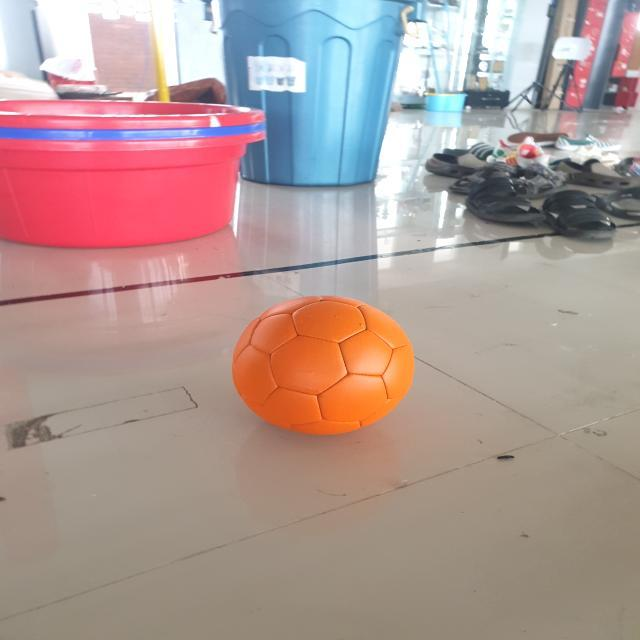bola: (220, 281, 442, 445)
